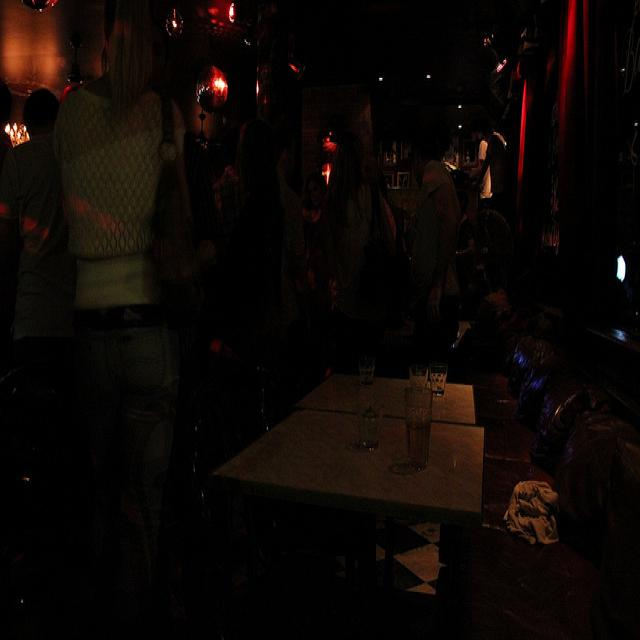Cup: (397, 363, 436, 481), (347, 374, 386, 460), (430, 358, 451, 395)
People: (49, 13, 202, 492), (227, 48, 306, 356), (0, 64, 82, 353), (392, 72, 456, 351), (335, 53, 393, 349)
Table: (188, 423, 488, 586), (293, 348, 487, 477)
chair: (457, 409, 636, 637), (473, 341, 611, 453)
